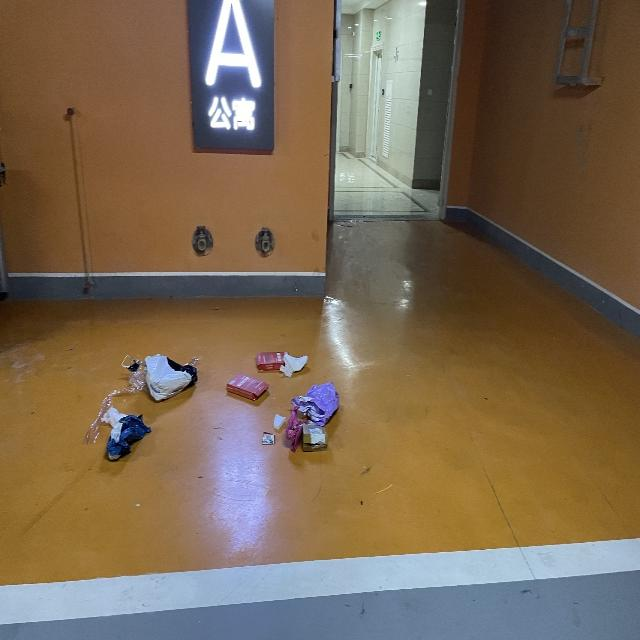garbage: (81, 344, 198, 462), (227, 349, 338, 452)
